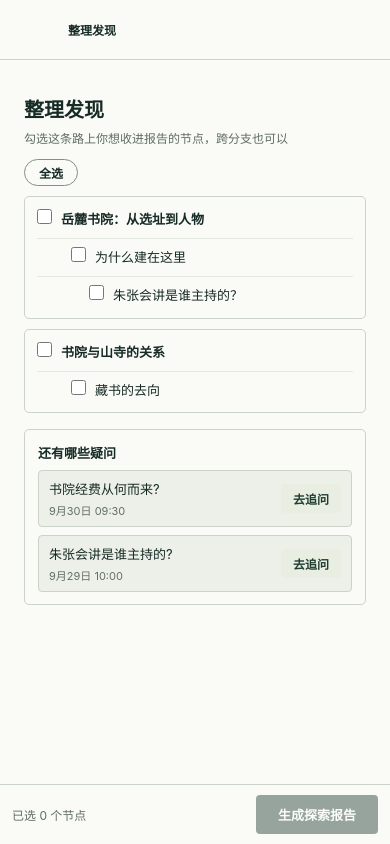
it: SummaryView(成果整理页,FR-E07 勾选阶段) › 提交遇 429:配额 envelope 文案页内展示(.quota-err),不跳报告态
Step 1. Click the button with class "sel-all" → coordinates (51, 173), box [24,159,78,186]
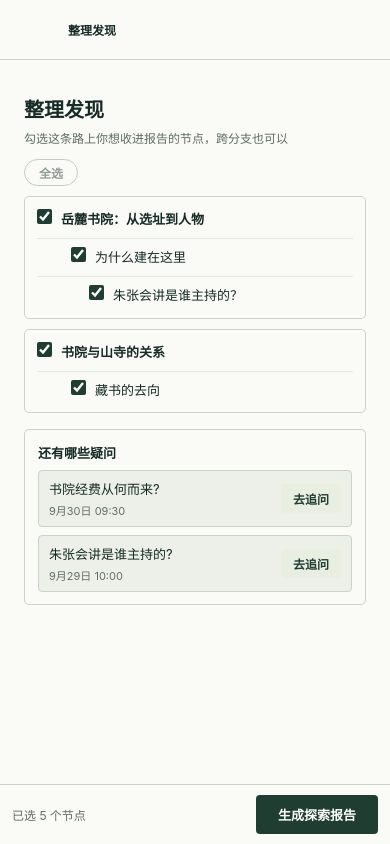
Step 2. Click the button with class "sum-go" → coordinates (317, 814), box [256,795,378,834]
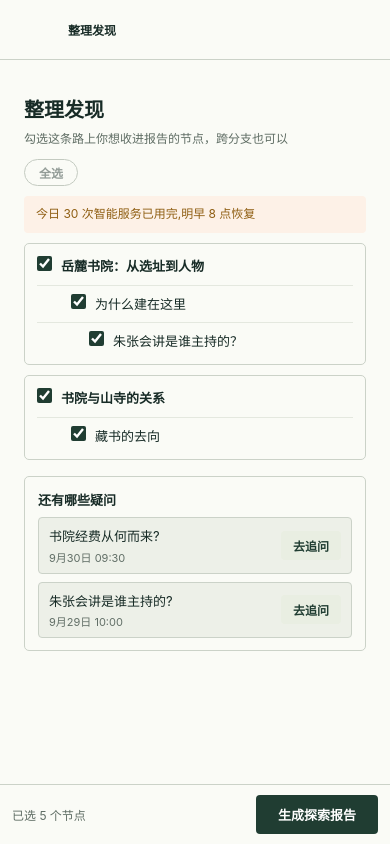
Expected: the message "今日 30 次智能服务已用完,明早 8 点恢复" is shown, [24,196,366,233]
